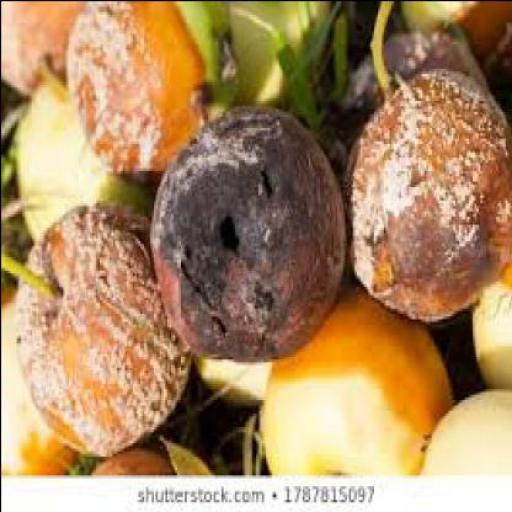biodegradable: (146, 100, 346, 360), (0, 200, 186, 456), (342, 62, 510, 318), (256, 280, 448, 472), (62, 0, 203, 181), (11, 81, 153, 243), (338, 27, 487, 138), (0, 278, 74, 472), (224, 1, 325, 102), (390, 1, 511, 79), (416, 383, 510, 471), (171, 1, 234, 111), (1, 1, 78, 86), (468, 258, 510, 386), (185, 353, 270, 404), (80, 440, 214, 472), (275, 30, 315, 124), (367, 1, 399, 102), (326, 11, 348, 102), (313, 116, 344, 170)
